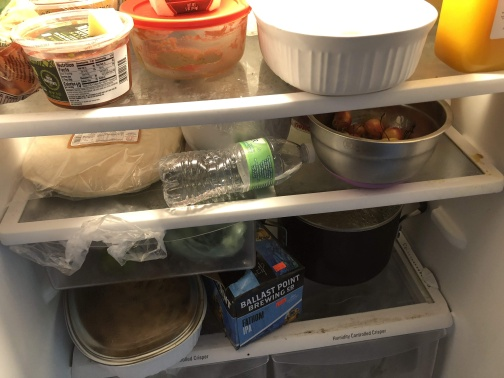bottle: (158, 135, 322, 211)
